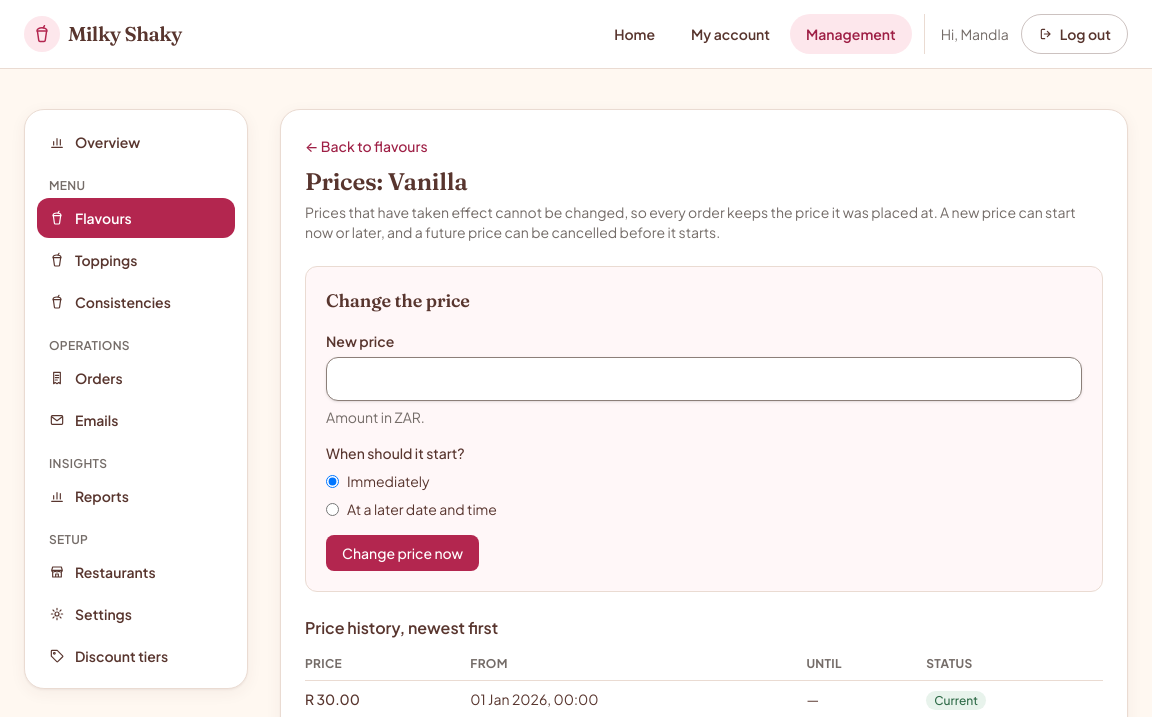
it: price management › schedules a future price, sending UTC time and the item version
The image size is (1152, 717).
Type "35" into the field labelled "New price" at x=704, y=379, box [326,357,1082,401]
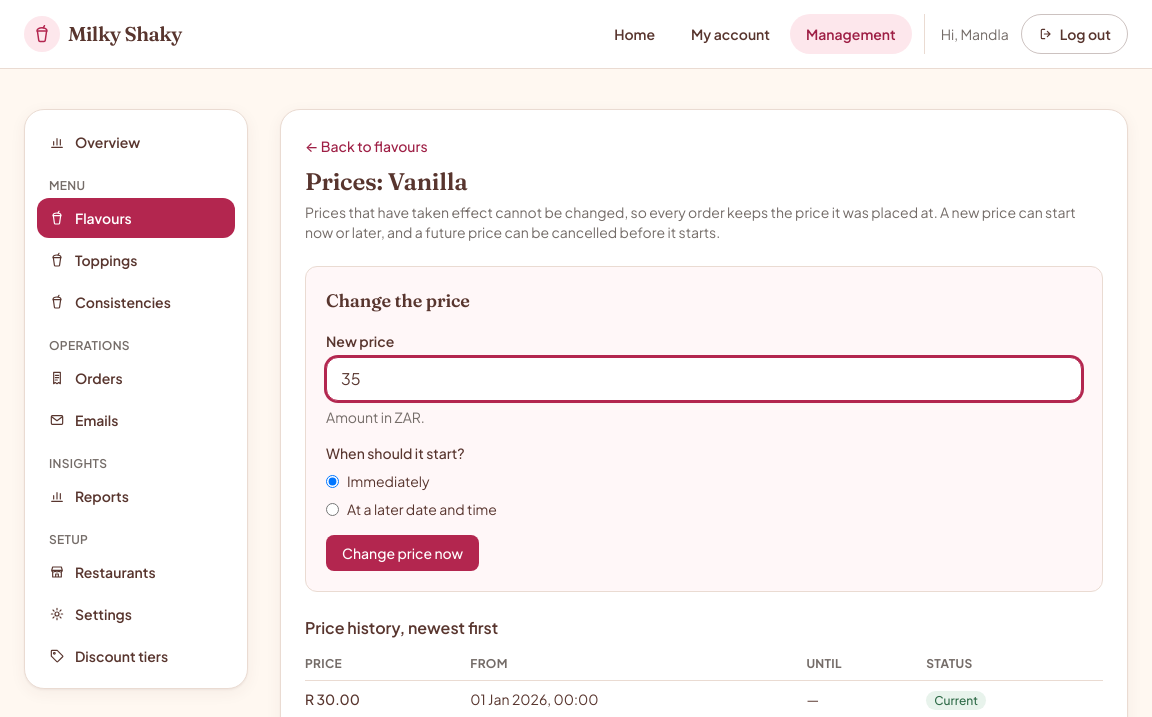
Click the radio button labelled "At a later date and time" at x=332, y=509, box [326,502,339,516]
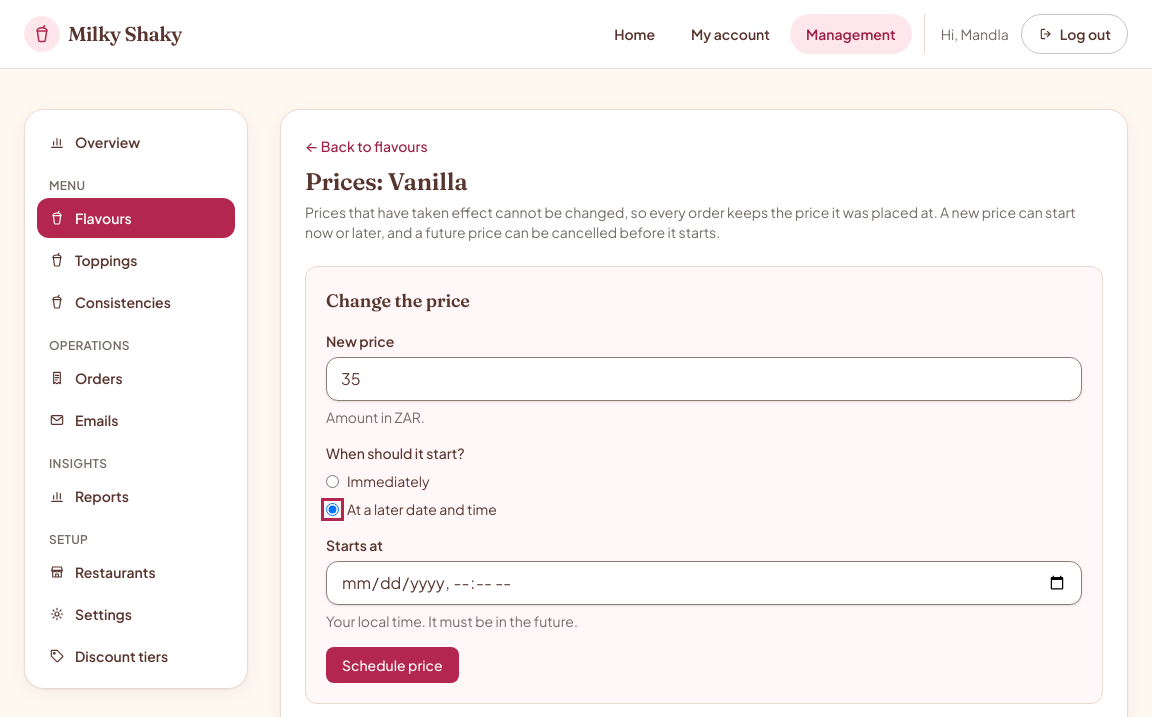
Type "2099-01-01T09:00" into the field labelled "Starts at" at x=704, y=583, box [326,561,1082,605]
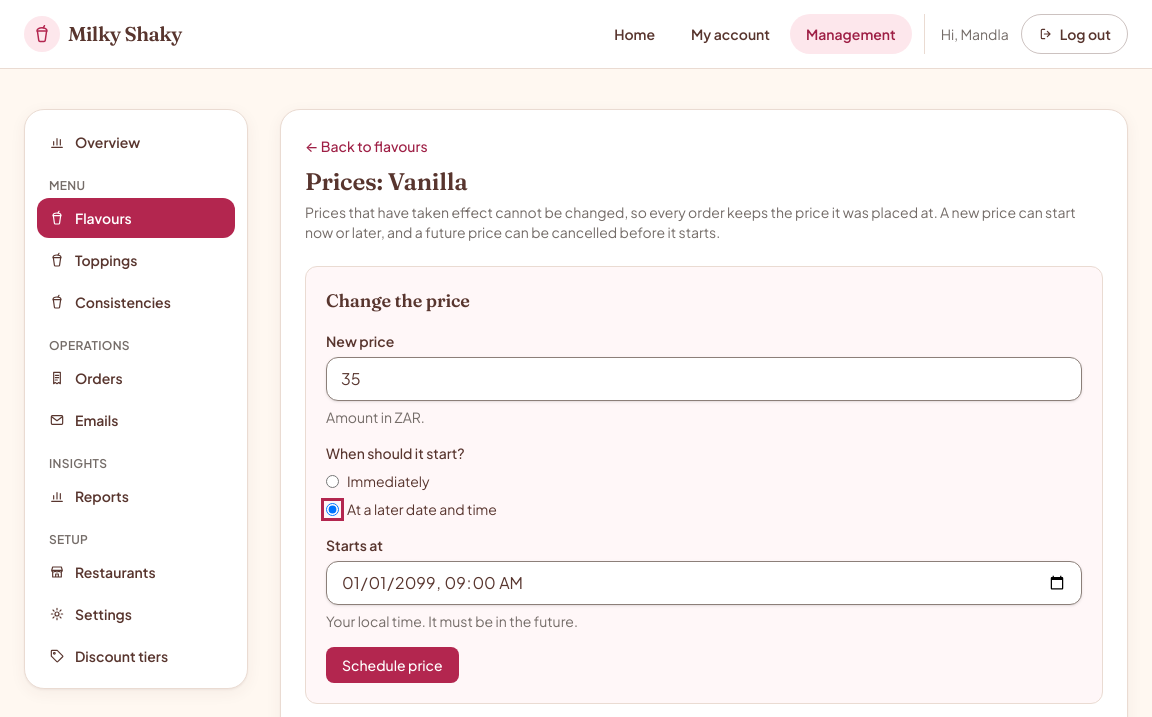
Click the button "Schedule price" at x=392, y=665, box [326,647,459,683]
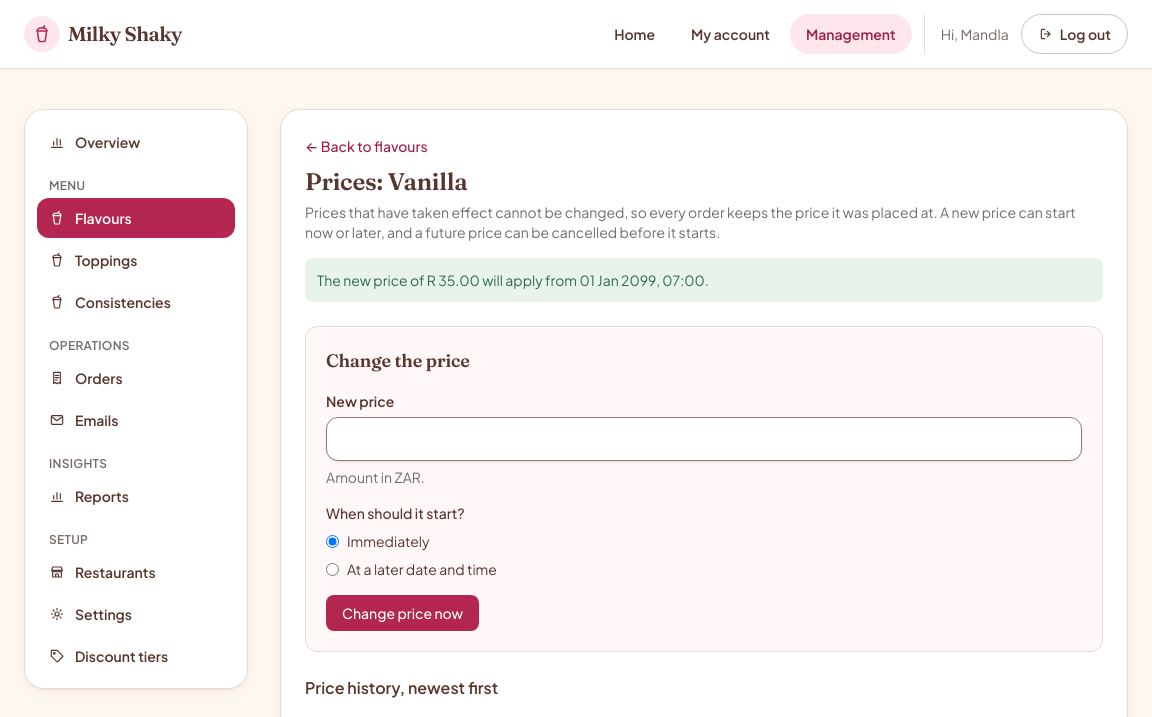
Check: the text "The new price of R 35.00 will apply from 01 Jan 2099, 07:00." is shown, box [305,258,1103,302]
